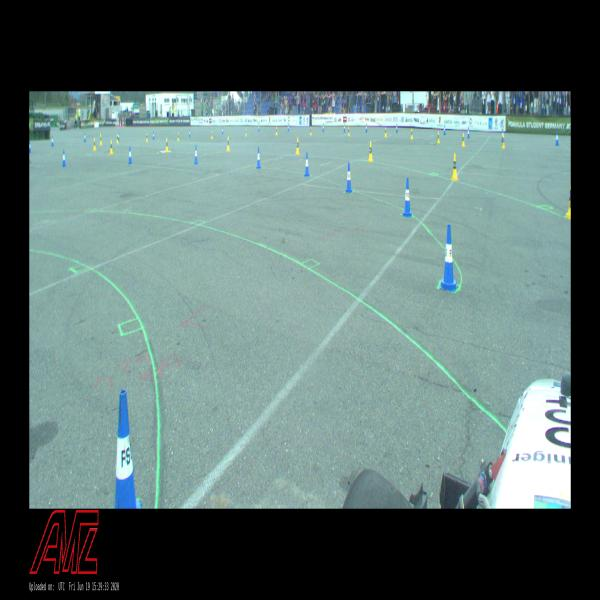blue_cone: (114, 389, 142, 509), (440, 225, 458, 292), (403, 178, 412, 217), (346, 162, 353, 193), (304, 152, 310, 177), (256, 147, 261, 168), (128, 146, 133, 164), (194, 145, 198, 164), (62, 150, 66, 167), (556, 131, 560, 146), (467, 127, 470, 138), (51, 136, 54, 146), (443, 125, 446, 135), (29, 141, 31, 152), (84, 133, 86, 142), (258, 124, 260, 132), (366, 124, 368, 132), (396, 124, 398, 132), (153, 132, 154, 140), (189, 130, 190, 138), (344, 124, 345, 132), (323, 124, 324, 132), (288, 124, 289, 131), (222, 128, 223, 134)
yellow_cone: (451, 153, 458, 181), (566, 184, 570, 219), (368, 141, 373, 162), (226, 136, 230, 152), (296, 137, 299, 155), (502, 133, 505, 149), (166, 138, 169, 153), (110, 140, 113, 154), (462, 133, 465, 147), (437, 131, 440, 144), (93, 138, 96, 151), (411, 128, 413, 140), (100, 134, 102, 146), (348, 126, 350, 136), (310, 126, 312, 136), (116, 134, 118, 144), (384, 127, 386, 137), (146, 133, 148, 142), (211, 131, 213, 139), (245, 128, 247, 136), (276, 126, 277, 136), (178, 133, 179, 141)
